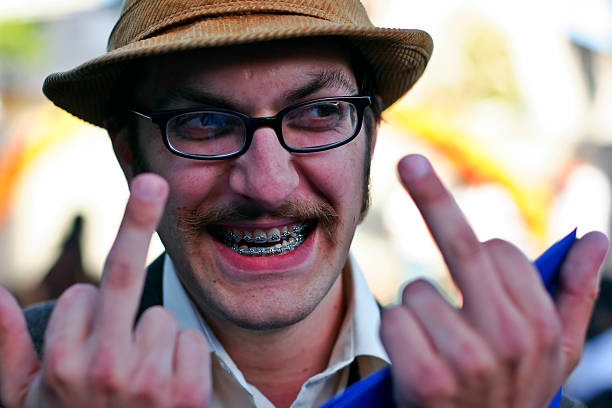insulting_gesture: (386, 152, 609, 408), (0, 171, 212, 408)
